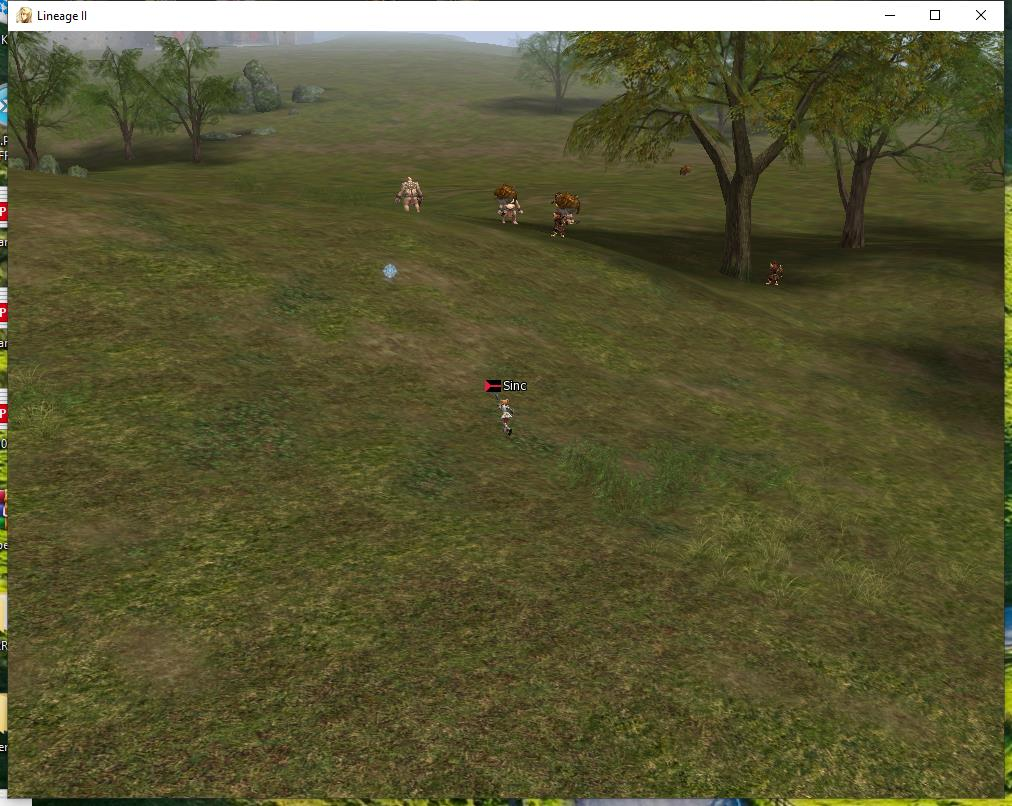monster: (489, 178, 526, 226), (552, 195, 581, 241), (396, 173, 428, 211), (764, 254, 785, 286)
